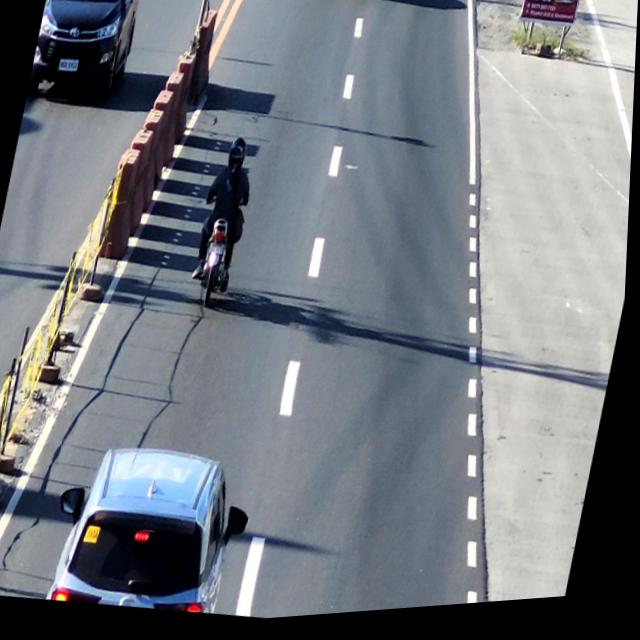Car: (43, 436, 265, 630)
Motorcycle: (185, 136, 265, 319)
